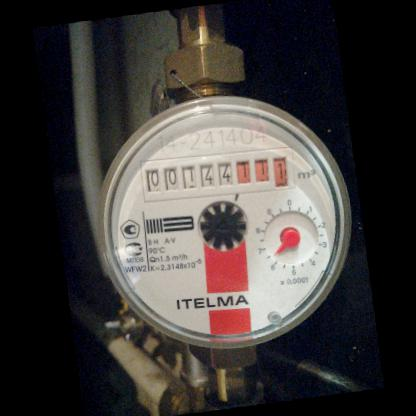digital_screen: (139, 151, 237, 204)
